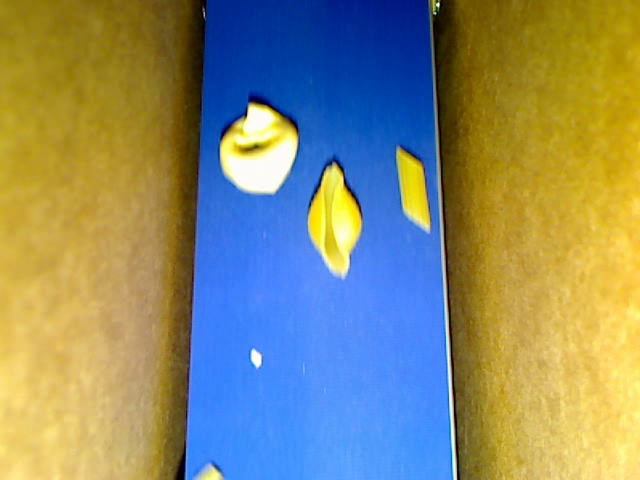penne: (394, 146, 430, 233)
shell: (308, 160, 363, 278)
tortellini: (219, 102, 299, 193)
